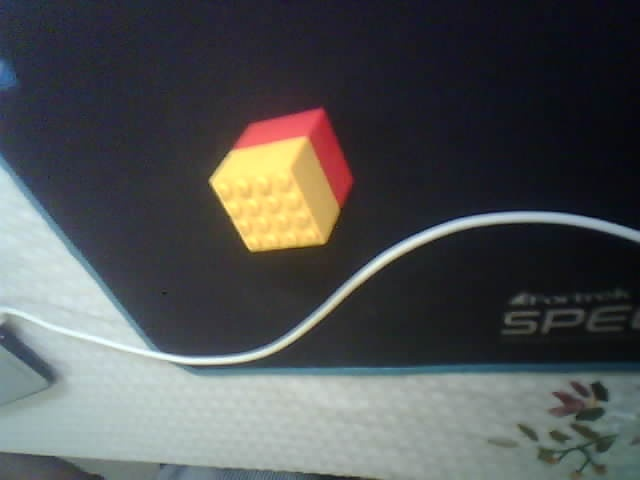lego: (207, 106, 354, 254)
